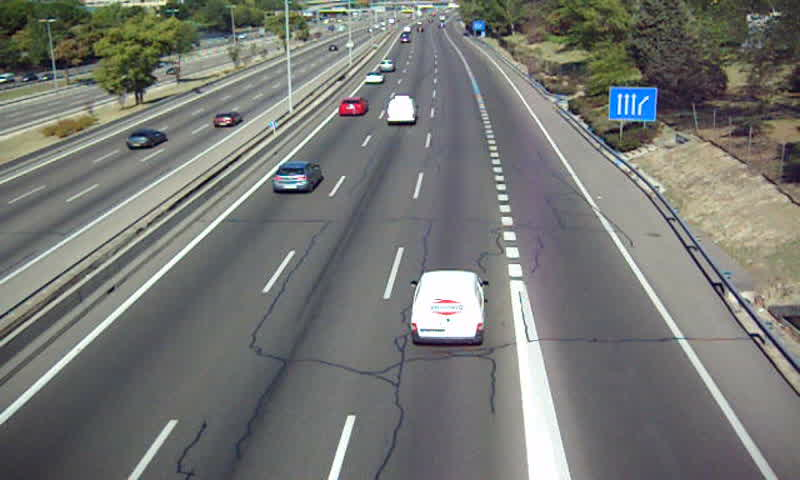car: (271, 161, 321, 194), (339, 96, 366, 116), (364, 71, 384, 84), (379, 59, 393, 72)
van: (410, 271, 485, 344), (387, 95, 416, 123)
